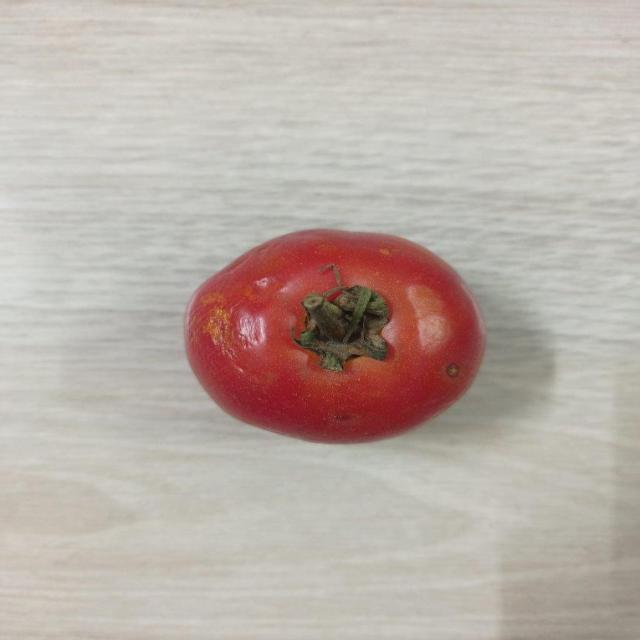overripe: (185, 226, 485, 444)
